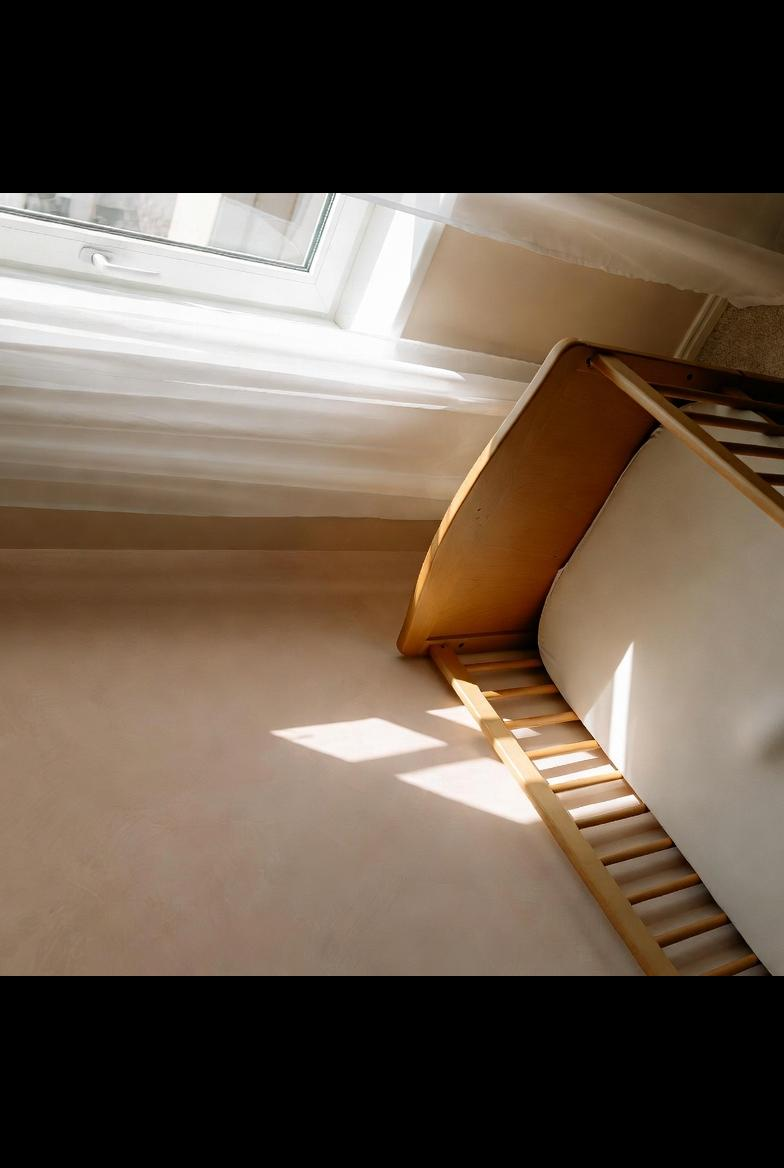crib: (390, 296, 784, 976)
